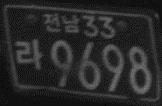3: (79, 13, 98, 38), (98, 15, 116, 40)
6: (78, 41, 101, 90)
8: (127, 45, 153, 95)
9: (50, 39, 75, 88), (101, 44, 125, 92)
라: (13, 39, 44, 72)
전남_O: (43, 11, 80, 34)
